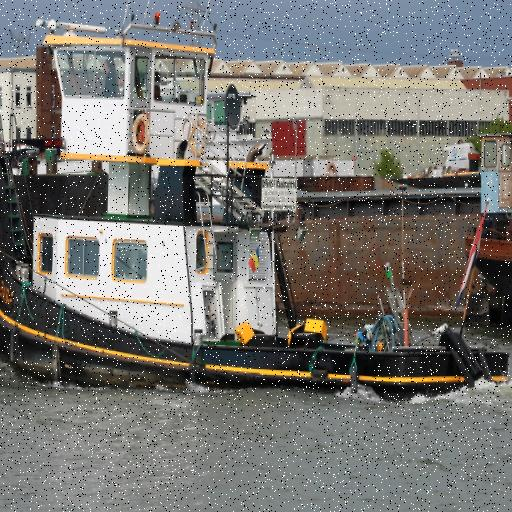tugboat: (1, 11, 512, 409)
